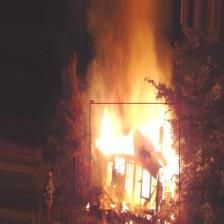fire: (89, 102, 180, 224)
